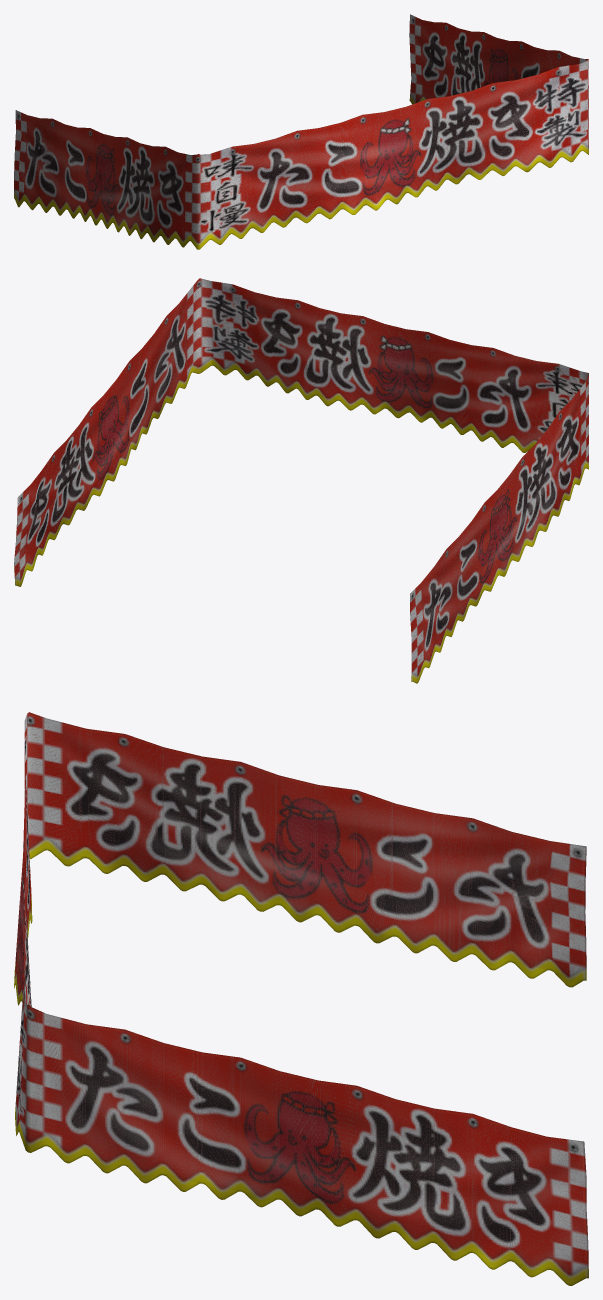
Rendered from jsf_ShopCurtain_Takoyaki_01.fbx.
3 renders of one model, top to bottom at view 1: azimuth 30°, elevation 25°; view 2: azimuth 150°, elevation 25°; view 3: azimuth 270°, elevation 25°, orthographic. The views are drawn at different scales.
Parts seen in each view (by area): view 1: jsf_ShopCurtain_Takoyaki_01; view 2: jsf_ShopCurtain_Takoyaki_01; view 3: jsf_ShopCurtain_Takoyaki_01.
Part boxes in pixels (box(x1,y1,x2,y2)): jsf_ShopCurtain_Takoyaki_01: box(14, 14, 588, 249); jsf_ShopCurtain_Takoyaki_01: box(14, 278, 588, 683); jsf_ShopCurtain_Takoyaki_01: box(14, 712, 588, 1285).
Bounding box in the file's own units: 269 × 116 × 216.
